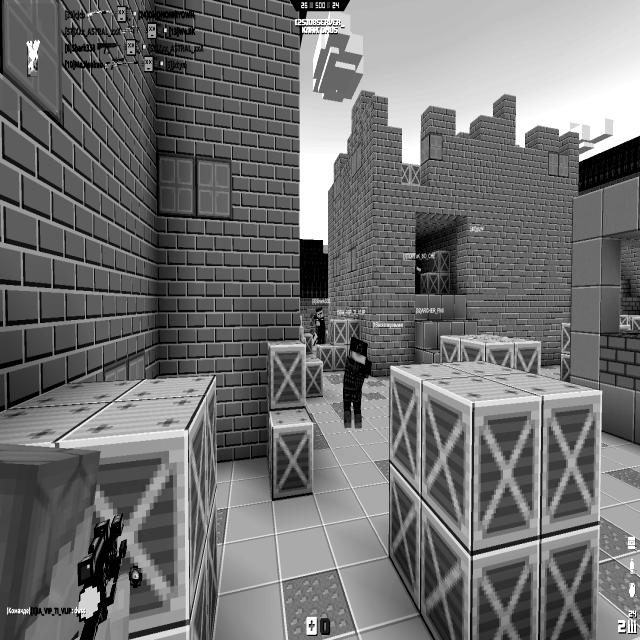Head: (0, 444, 100, 638), (349, 336, 368, 364), (129, 565, 142, 588), (316, 308, 324, 318), (416, 261, 422, 271)
Player: (342, 335, 370, 429), (314, 306, 326, 345), (415, 260, 422, 294)
